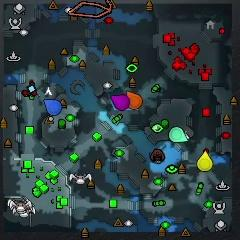p1: (44, 99, 62, 116)
p2: (169, 126, 188, 143)
p3: (111, 94, 129, 110)
p4: (198, 151, 212, 171)
p5: (127, 91, 142, 110)
